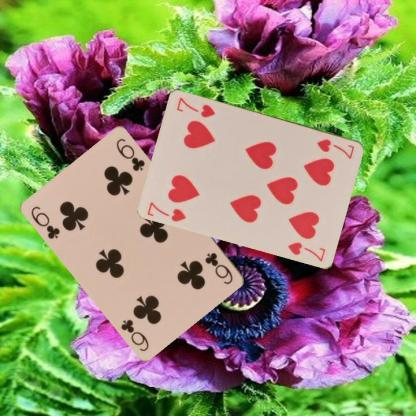6c: (28, 203, 62, 241), (202, 250, 235, 286)
7h: (145, 199, 188, 223), (314, 136, 356, 160)
